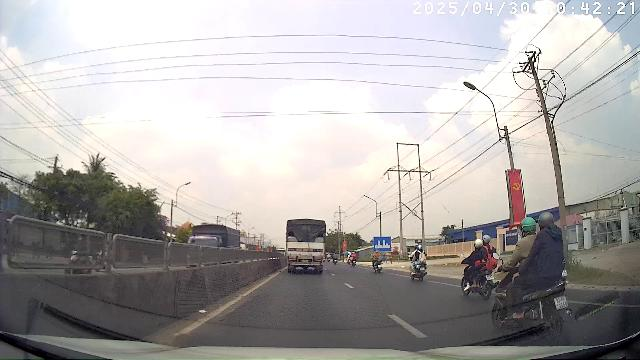420-bat-dau-khu-dong-dan-cu: (374, 237, 391, 251)
